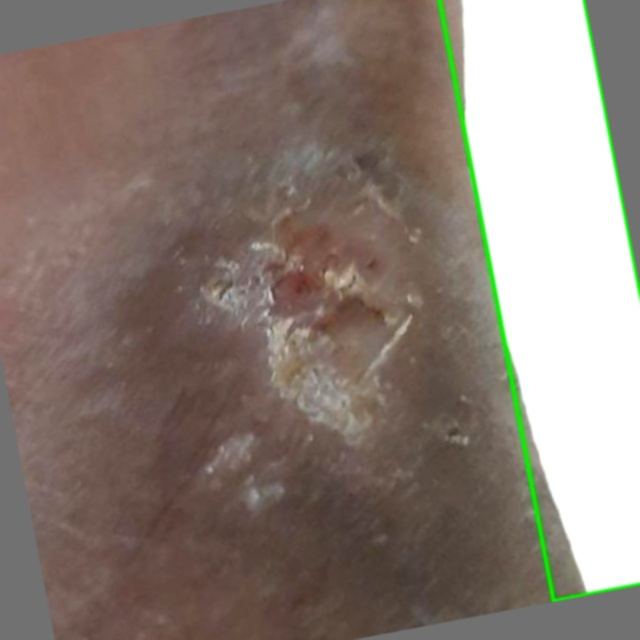Eczema: (439, 0, 639, 601)
